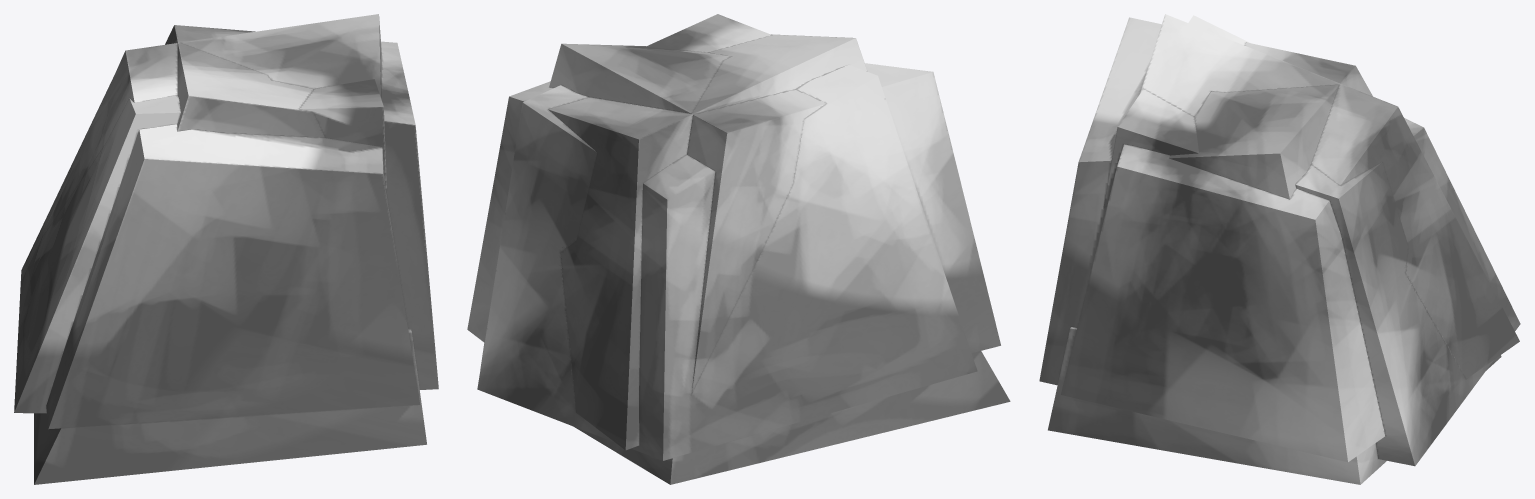
Rendered from Chalkvein.L.fbx.
3 views of the same model, side by side, from view 1: azimuth 30°, elevation 25°; view 2: azimuth 150°, elevation 25°; view 3: azimuth 270°, elevation 25° (orthographic). The views are drawn at different scales.
Visible parts, largest first — view 1: Chalkvein.L; view 2: Chalkvein.L; view 3: Chalkvein.L.
Part boxes in pixels (left/top/right/bottom): Chalkvein.L: left=14, top=14, right=438, bottom=484; Chalkvein.L: left=467, top=14, right=1010, bottom=484; Chalkvein.L: left=1039, top=14, right=1520, bottom=484.
Bounding box in the file's own units: 12.53 × 13.63 × 9.57.
1 material, 1 textured.
